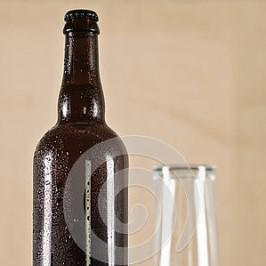beer: (32, 10, 129, 266)
